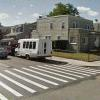Crosswalk: (8, 61, 100, 100)
